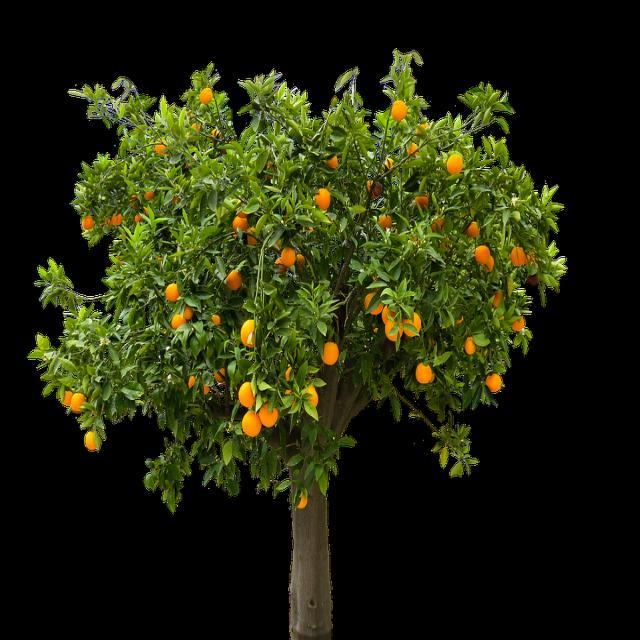Jeruk Sudah Matang: (237, 380, 260, 410), (401, 310, 424, 340), (257, 402, 281, 427), (384, 315, 404, 342), (473, 246, 494, 271), (241, 413, 261, 438), (364, 291, 384, 316), (509, 244, 529, 269), (414, 364, 436, 386), (69, 390, 88, 415), (231, 211, 250, 236), (320, 342, 338, 368), (280, 245, 300, 268), (82, 430, 101, 454), (314, 186, 332, 211), (239, 323, 256, 349), (301, 388, 322, 408), (485, 374, 504, 396), (164, 281, 182, 304), (445, 155, 464, 176), (225, 271, 242, 292), (170, 312, 188, 331), (378, 211, 394, 232), (462, 336, 477, 356), (466, 219, 481, 239), (390, 101, 406, 119), (196, 88, 213, 103), (82, 216, 96, 232)
